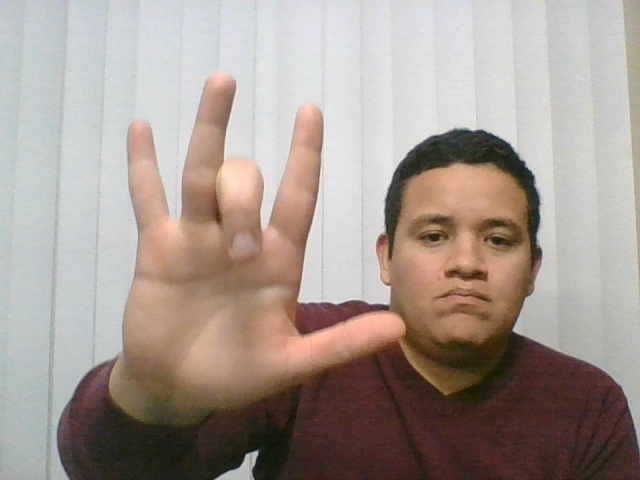Eight: (72, 56, 415, 432)
